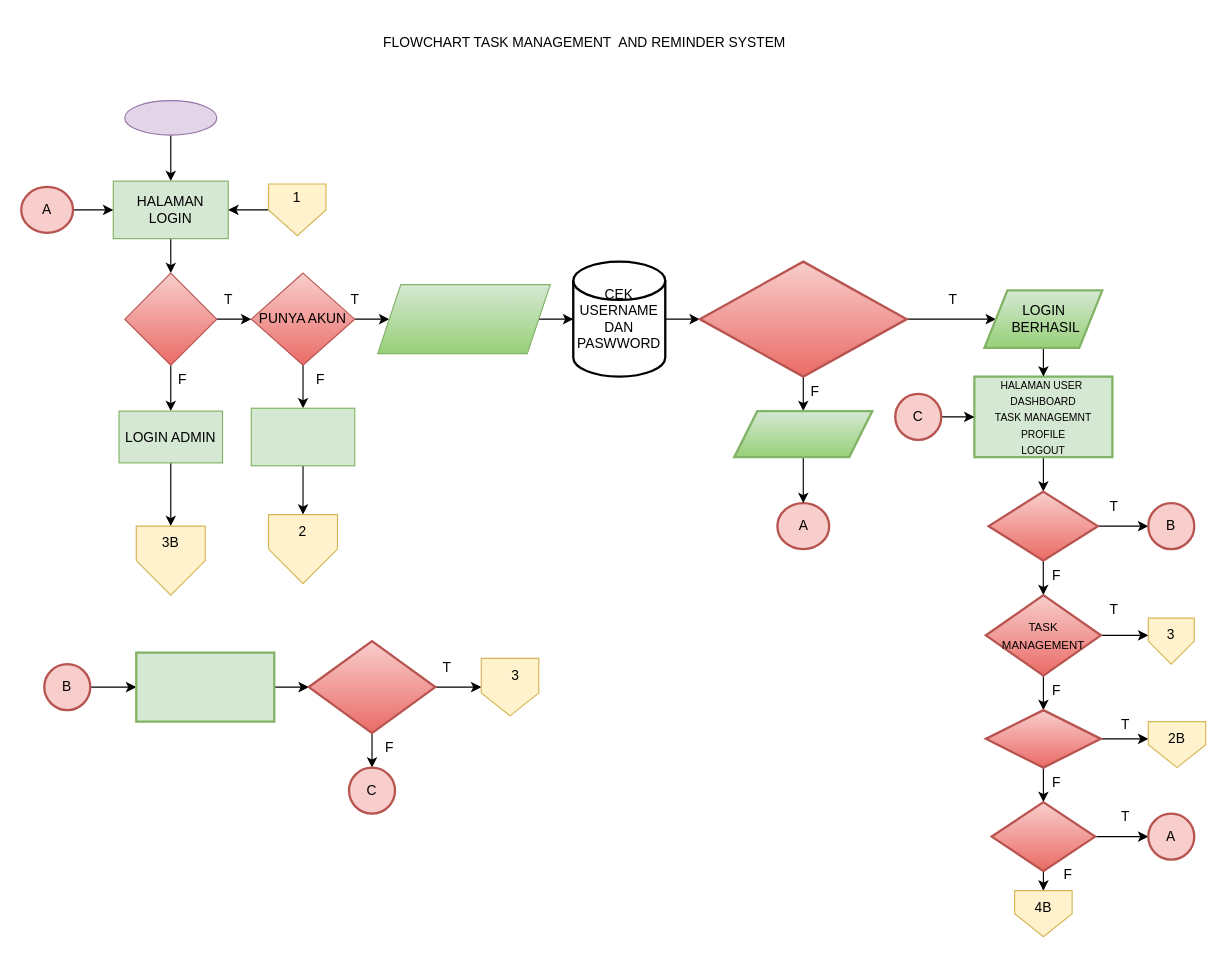
Some shapes in this 1231 by 957 pixel diagram are drawn without their labels. The shapes that lost their labels are listed below. From the top down, each one's centre as x and y in pixels, then its label:
the point at 170,117: START
the point at 170,318: ROLE == USER
the point at 463,318: MASUKKAN USERNAME DAN PASSWORD
the point at 802,318: USERNAMEREQ==USERNAME && PASSWORDREQ==PASSWORD
the point at 302,436: HALAMAN REGISTER
the point at 803,433: LOGIN GAGAL
the point at 1042,525: DASHBOARD
the point at 205,686: INFORMASI TOTAL TASK, TASK COMPLETED, TASK PENDING, STATISTIK TASK
the point at 371,686: LIHAT SEMUA TASK
the point at 1042,738: PROFILE
the point at 1043,836: LOGOUT
